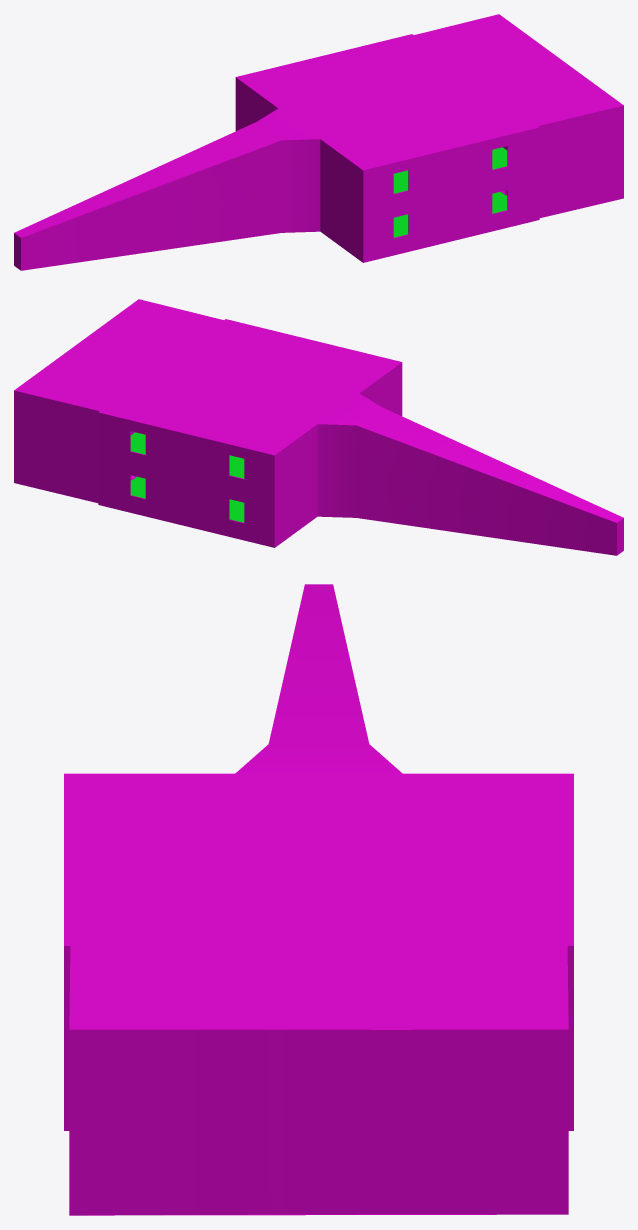
Rendered from PinkMenace.fbx.
The picture shows the model from 3 angles, top to bottom: view 1: azimuth 30°, elevation 25°; view 2: azimuth 150°, elevation 25°; view 3: azimuth 270°, elevation 25°; orthographic projection. The views are drawn at different scales.
Parts seen in each view (by area): view 1: ThePinkMenace; view 2: ThePinkMenace; view 3: ThePinkMenace, ThePinkMenace.001, ThePinkMenace.002.
Boxes of the visible parts, x1,y1,x2,y2 form: ThePinkMenace: (14,14,623,270); ThePinkMenace: (14,299,623,555); ThePinkMenace: (64,584,573,1215); ThePinkMenace.001: (195,1030,270,1210); ThePinkMenace.002: (369,1029,442,1210).
Bounding box in the file's own units: 3740 × 611 × 1519.
